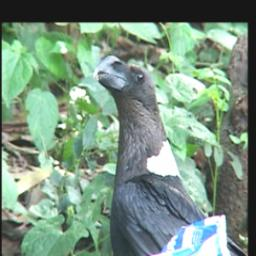Crow: (91, 56, 218, 256)
